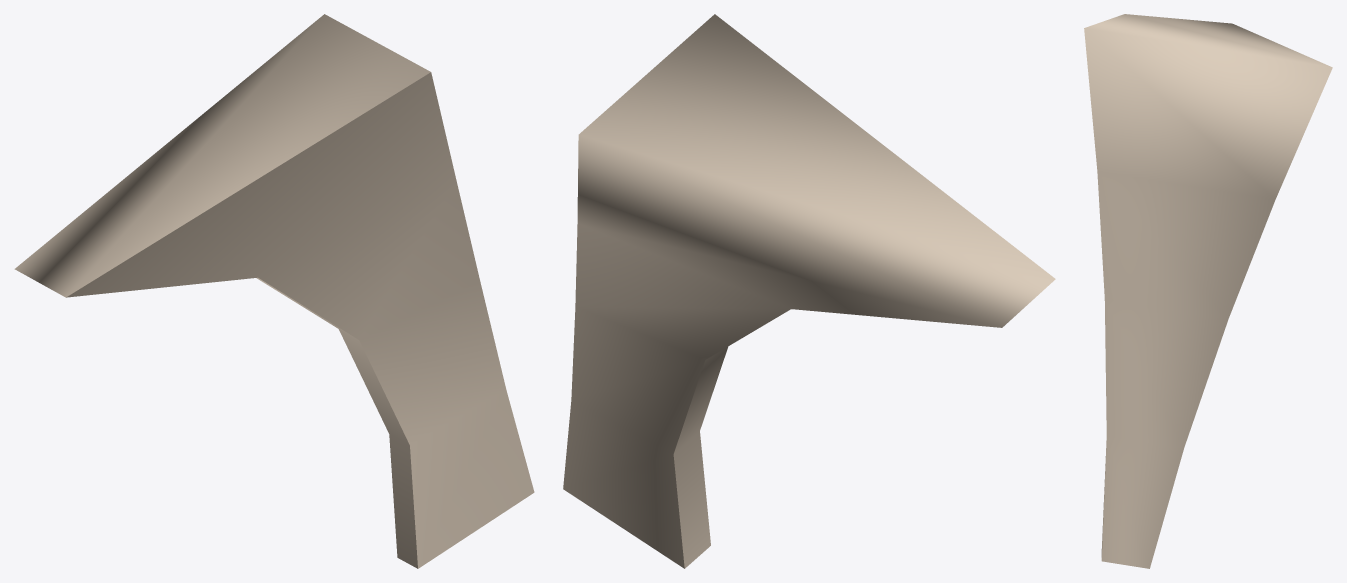
3 views of the same model, side by side, from view 1: azimuth 30°, elevation 25°; view 2: azimuth 150°, elevation 25°; view 3: azimuth 270°, elevation 25° (orthographic). The views are drawn at different scales.
Visible parts, largest first — view 1: Object51; view 2: Object51; view 3: Object51.
Boxes of the visible parts, left/top/right/bottom form: Object51: left=14, top=14, right=534, bottom=568; Object51: left=563, top=14, right=1055, bottom=568; Object51: left=1084, top=14, right=1332, bottom=568.
Bounding box in the file's own units: 11121 × 11736 × 4967.
